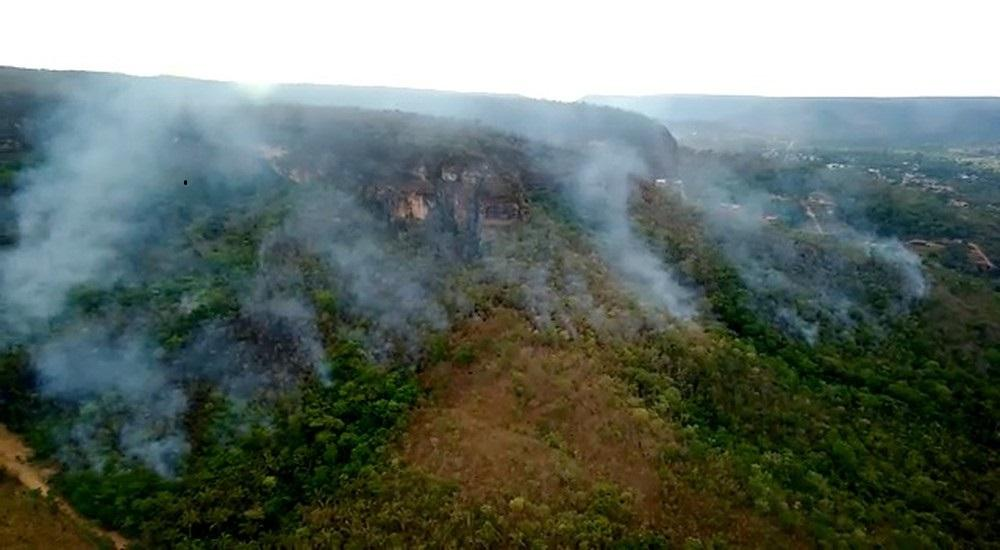smoke: (37, 110, 163, 223), (587, 123, 666, 214), (27, 336, 140, 396), (4, 244, 70, 307)
